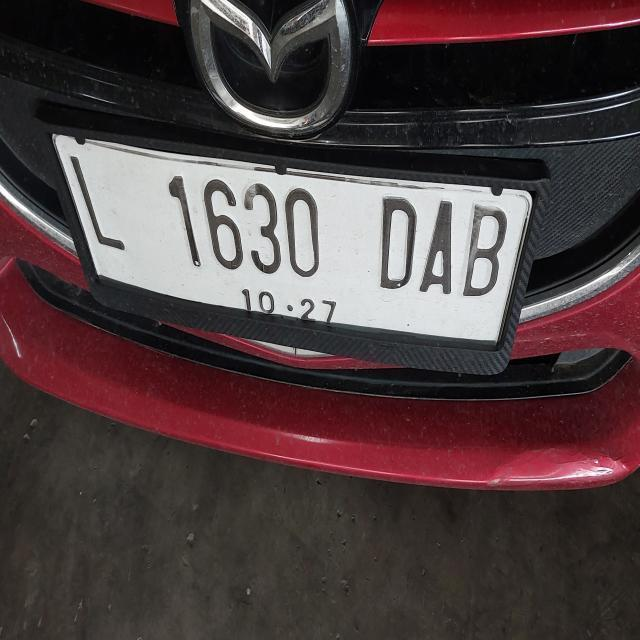0: (283, 188, 326, 279)
1: (160, 166, 204, 284)
3: (240, 172, 282, 280)
6: (198, 168, 247, 270)
A: (422, 186, 456, 302)
B: (462, 189, 509, 311)
D: (376, 188, 420, 297)
L: (66, 143, 136, 278)
